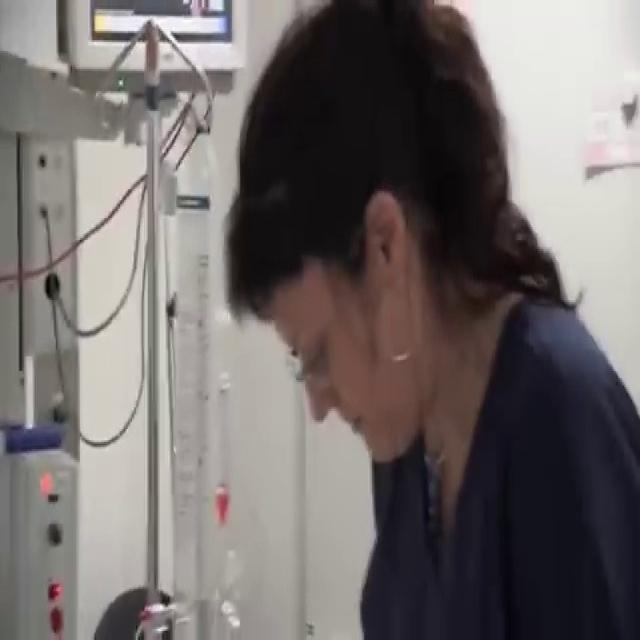monitor: (57, 0, 247, 75)
others: (223, 0, 639, 636)
